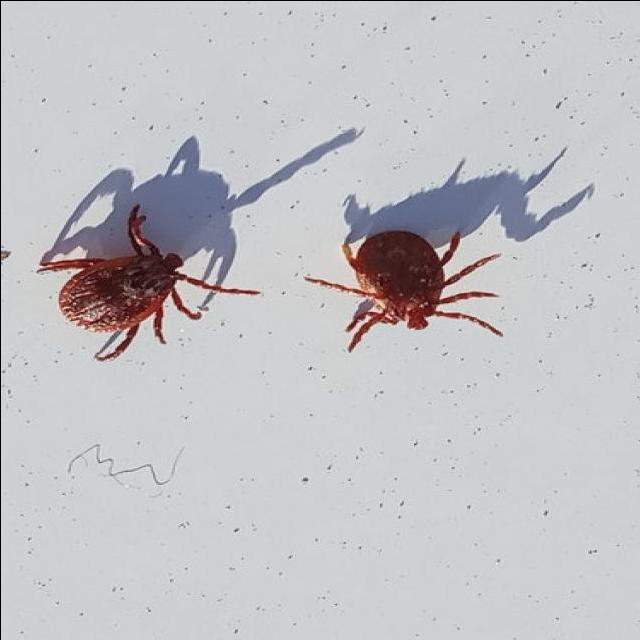Dermacentor Reticulatus-F: (38, 205, 254, 357)
